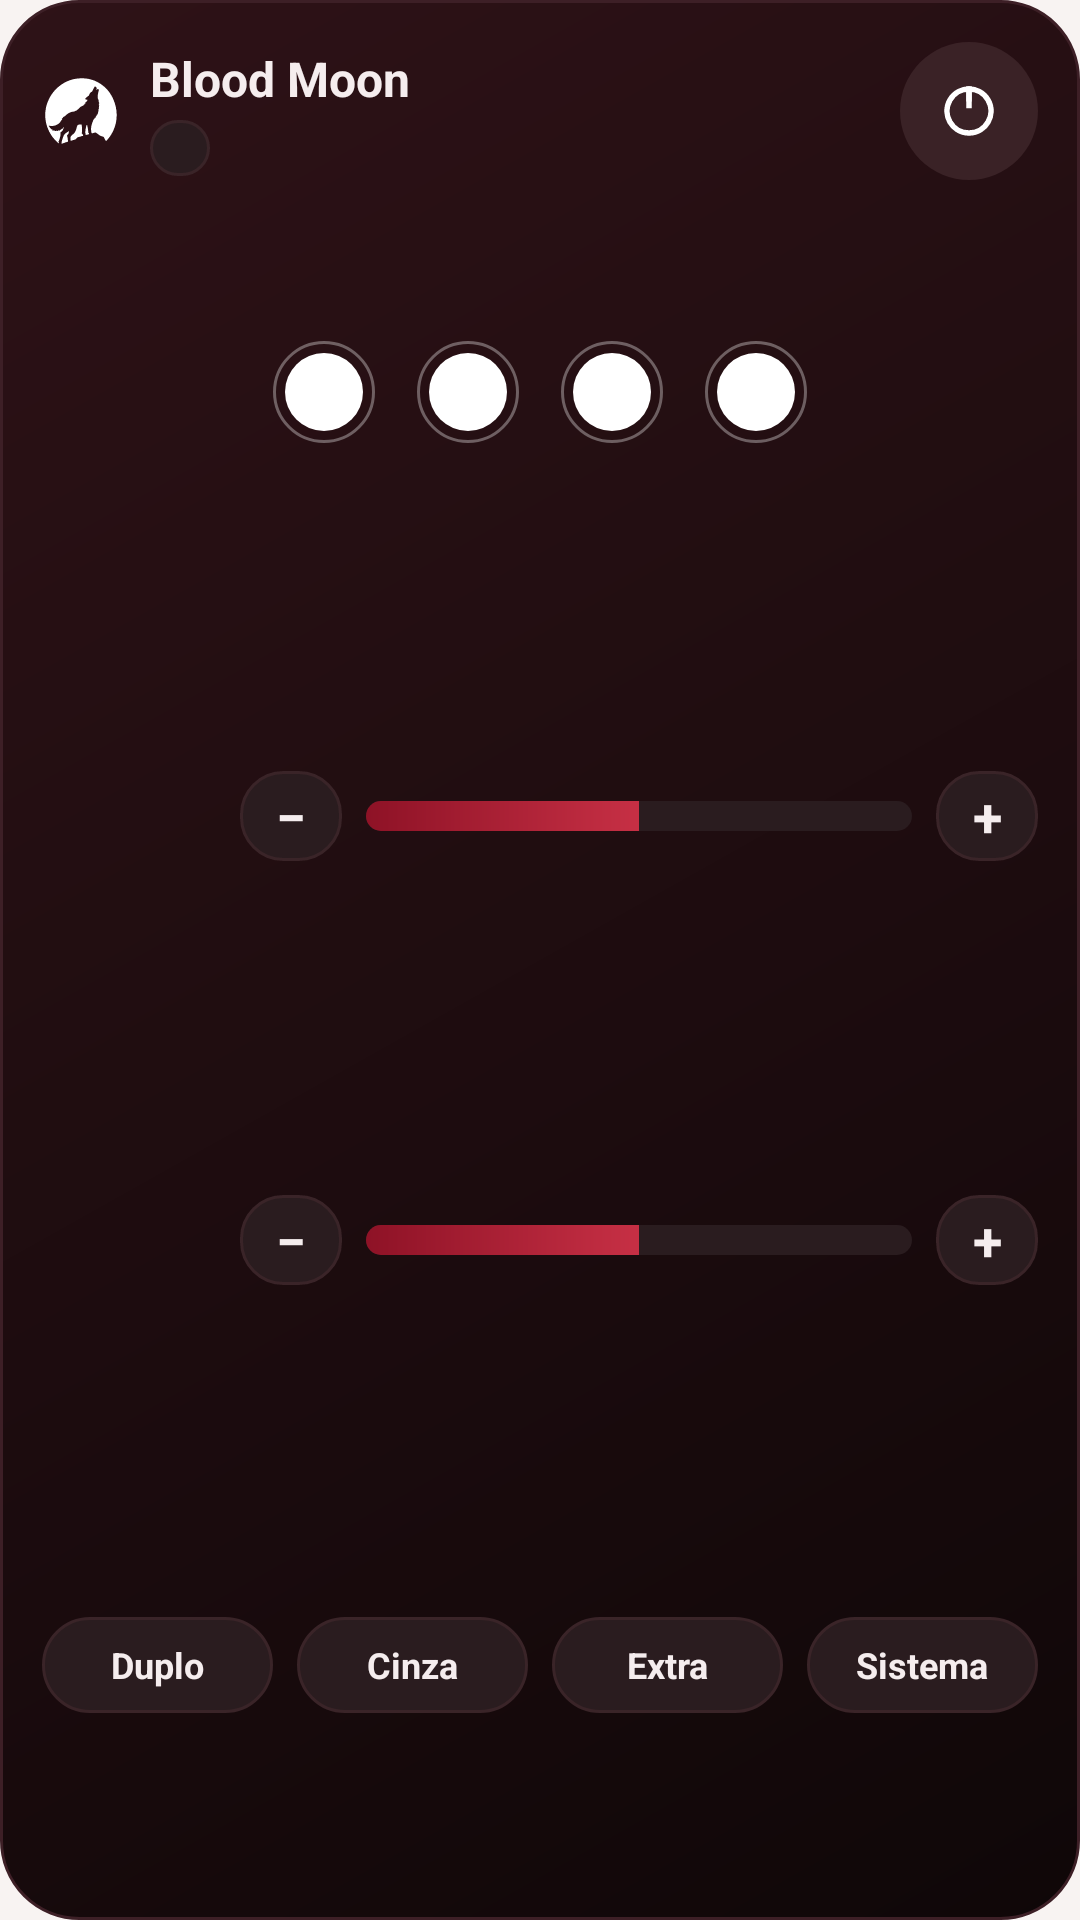

Named icons in this screenshot (1080×1920) and their bounding boxes, (x1,y1,x2,y2):
Ativar ou desativar o filtro: (900,42,1038,180)
tile moon: (45,78,117,144)
